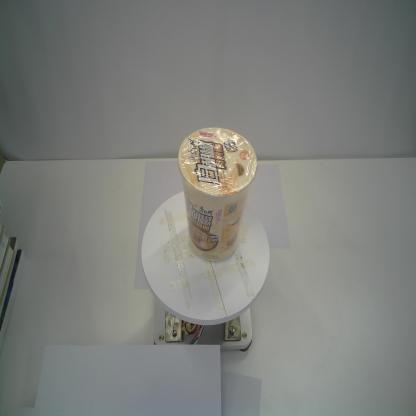Instant Noodles: (177, 124, 259, 263)
